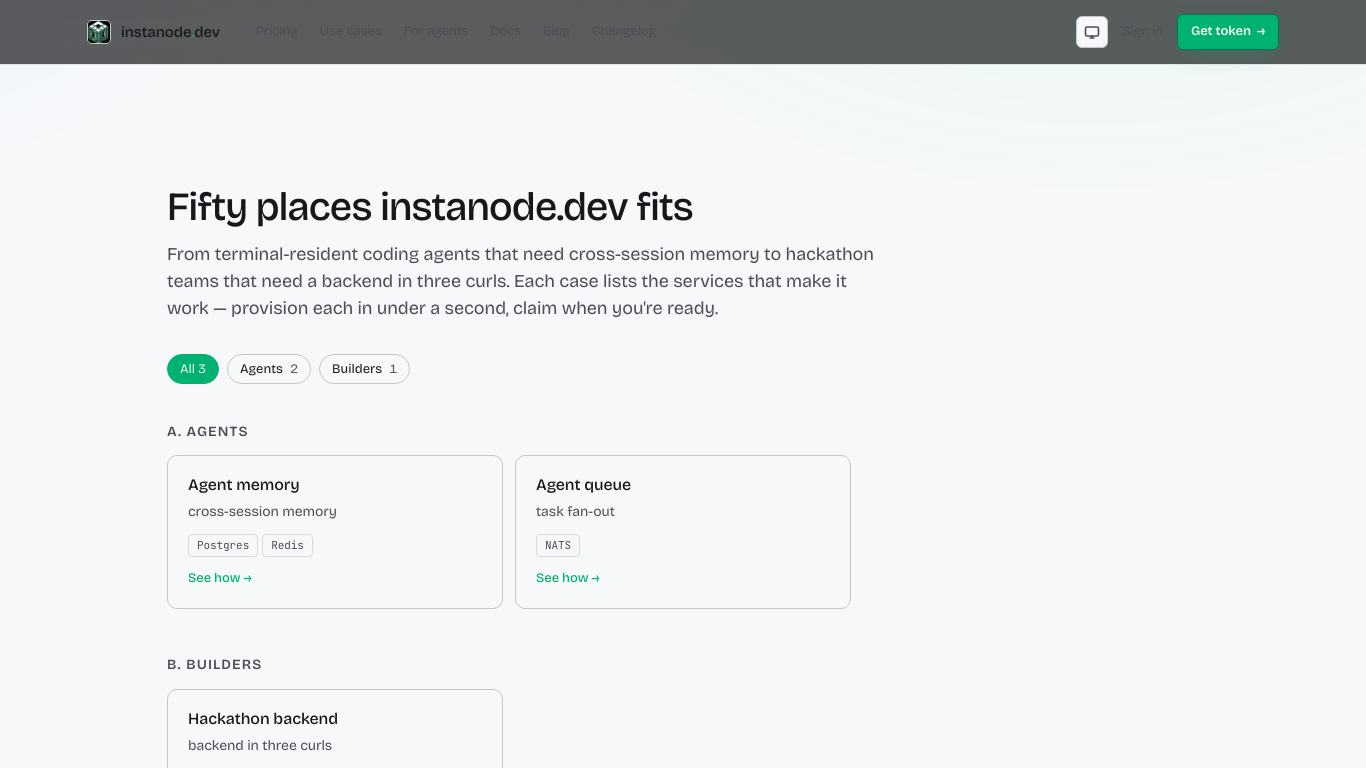
UseCasesPage › returns to the full list when "All" is clicked again
Click the button "Builders 1" at (365, 368), box x1=319 y1=354 x2=410 y2=384
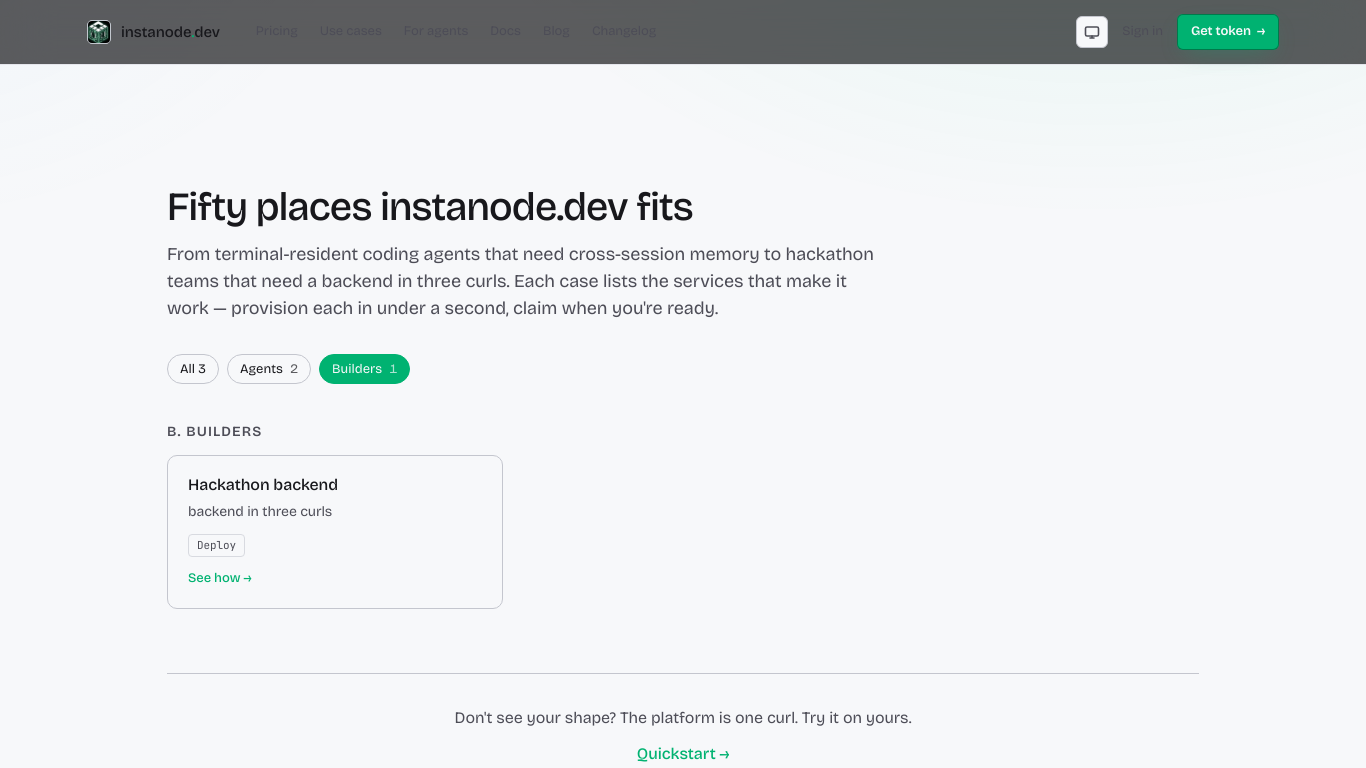
Expected: the link "Agent memory" is gone
Click the button "All 3" at (193, 368), box x1=167 y1=354 x2=219 y2=384
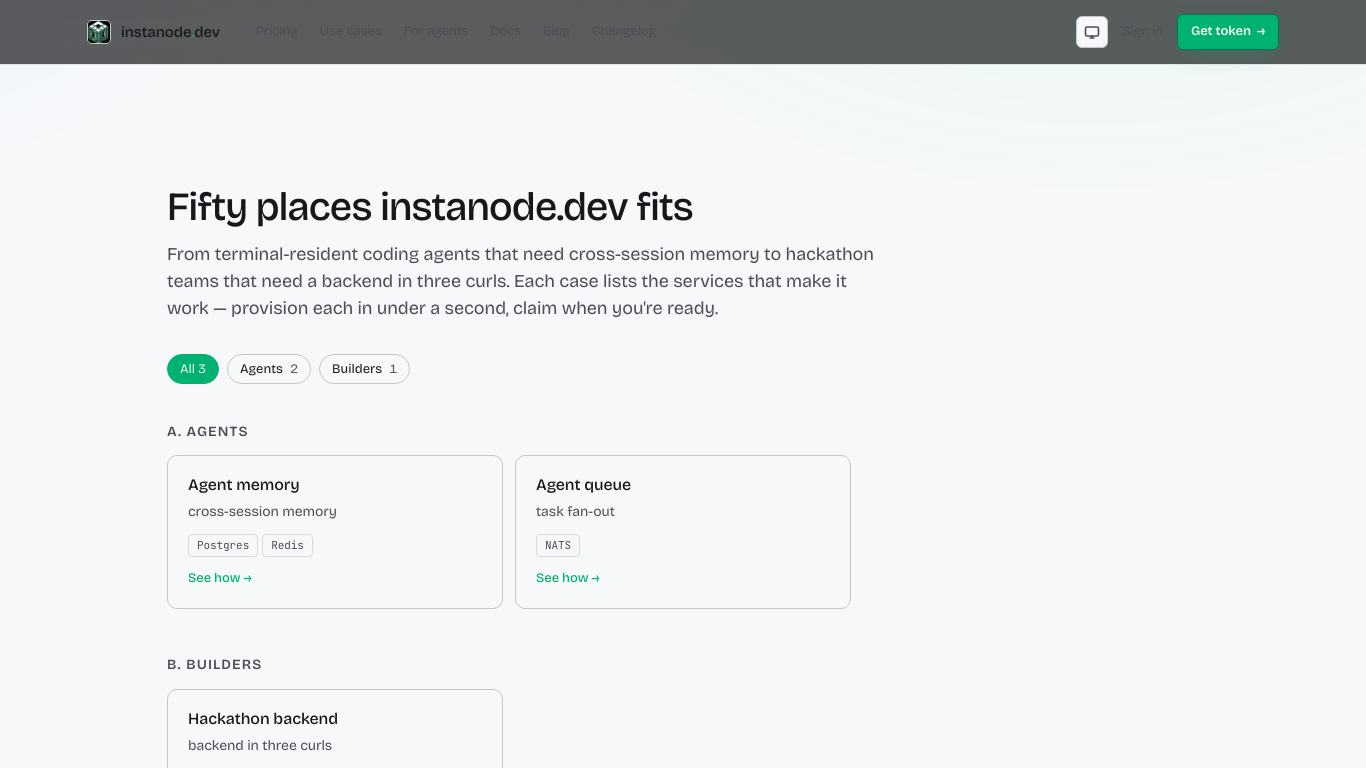
Expected: the heading "Agent memory" is shown, x1=188 y1=475 x2=300 y2=494
